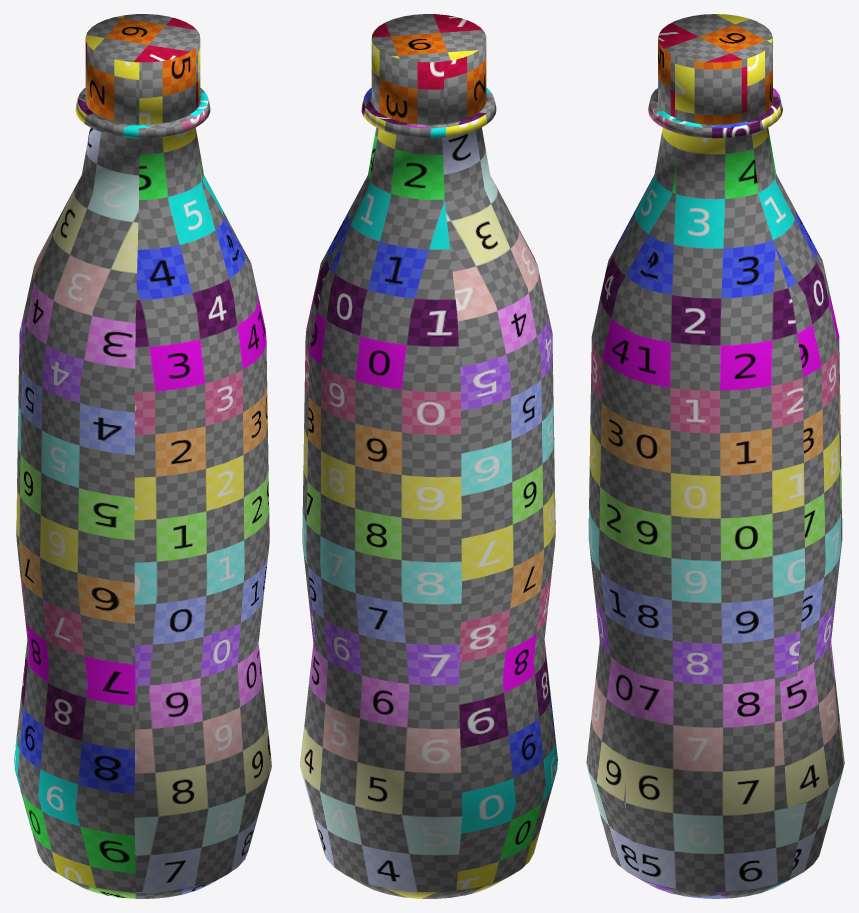
The model's file is bottle3.fbx.
The picture shows the model from 3 angles, left to right: view 1: azimuth 30°, elevation 25°; view 2: azimuth 150°, elevation 25°; view 3: azimuth 270°, elevation 25°; orthographic projection.
Parts seen in each view (by area): view 1: Cola; view 2: Cola; view 3: Cola.
Boxes of the visible parts, x1,y1,x2,y2 form: Cola: (14, 14, 271, 898); Cola: (300, 14, 557, 898); Cola: (586, 14, 844, 898).
Bounding box in the file's own units: 141 × 497 × 141.
1 material, 1 textured.
